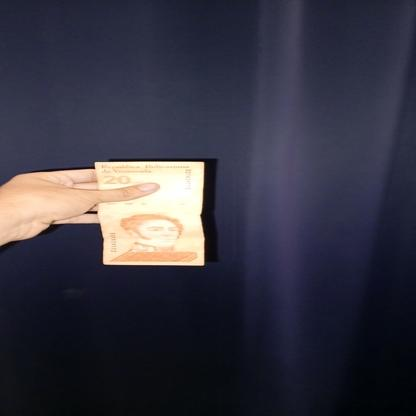twenty-front-vef: (94, 160, 204, 265)
